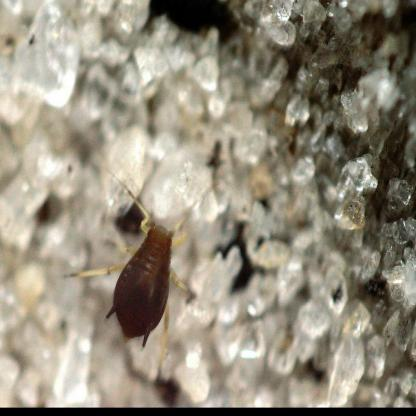aphid: (80, 180, 190, 347)
